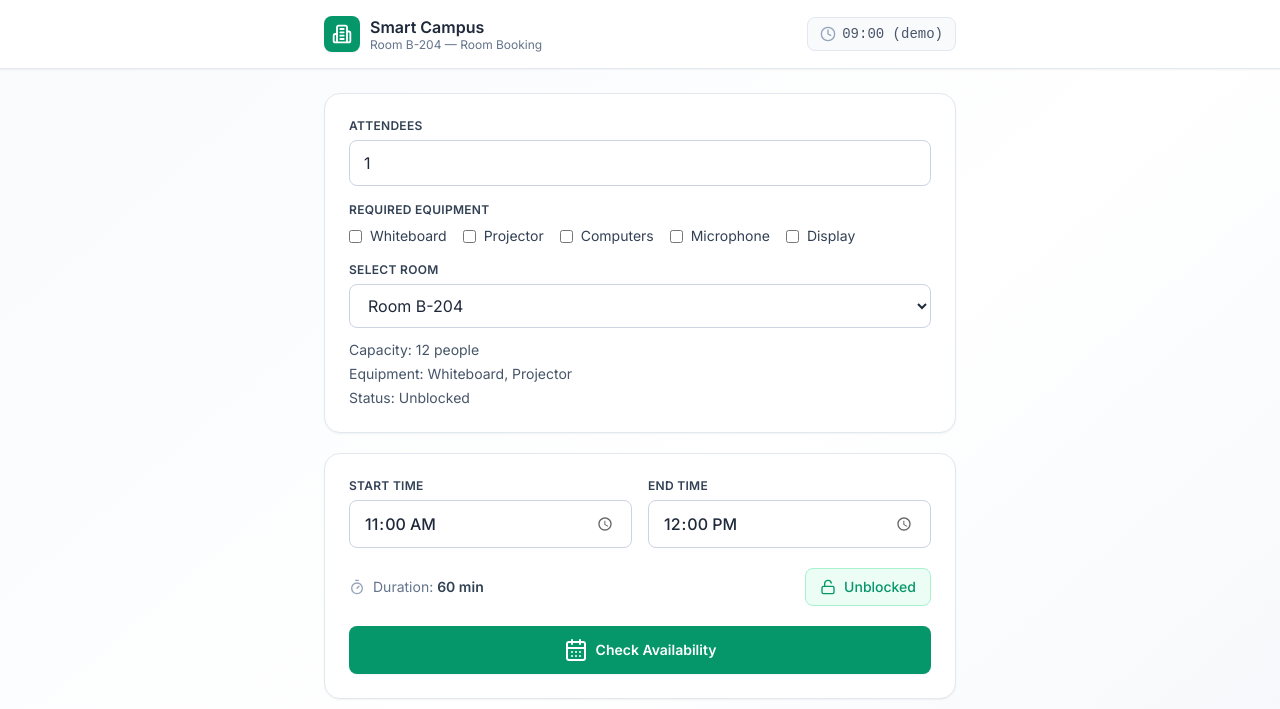
Test case: Filter and room-switching behavior › clears selection when equipment excludes the room and recovers from the empty state
Later steps or results of the test are not shown.
Click the button "Check Availability". click: (640, 650)
box: [349,626,931,674]
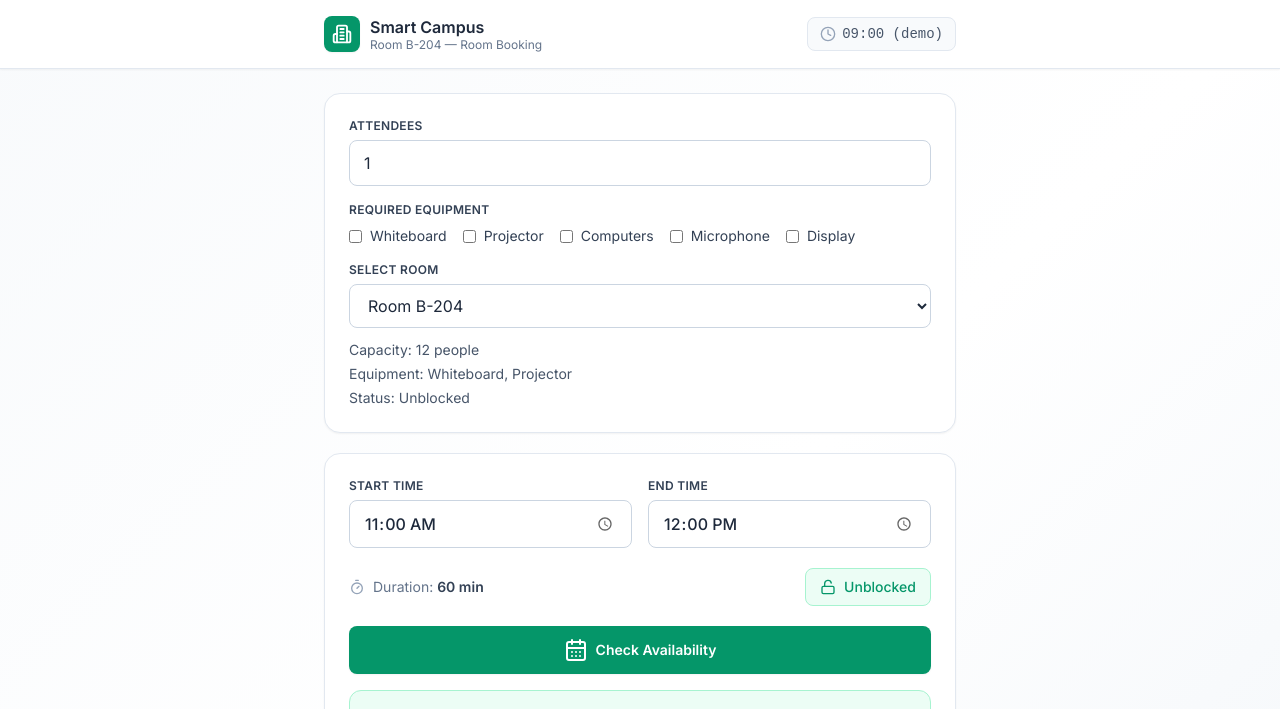
Click the checkbox labelled "Computers". click: (566, 236)
box: [560,230,573,242]
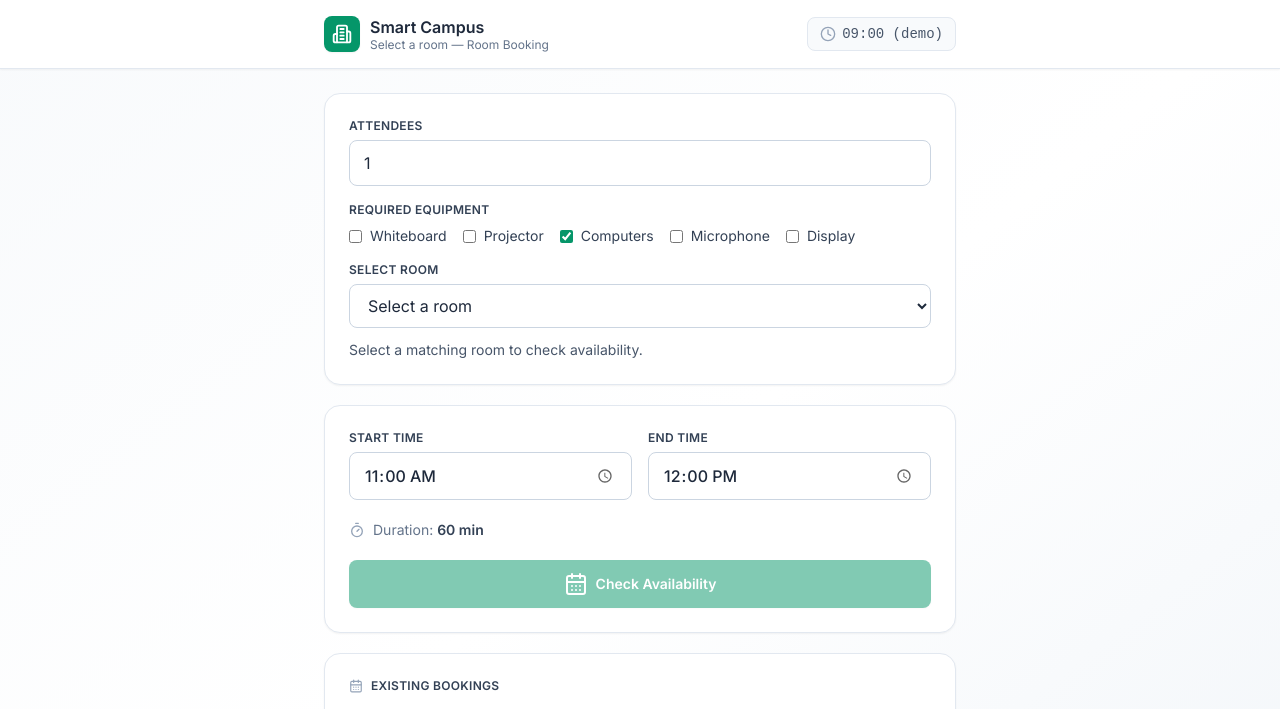
Expected: the dropdown with id "room-select" shows "Select a room", [349,284,931,328]
Click the checkbox labelled "Display". click: (792, 236)
box: [786,230,799,242]
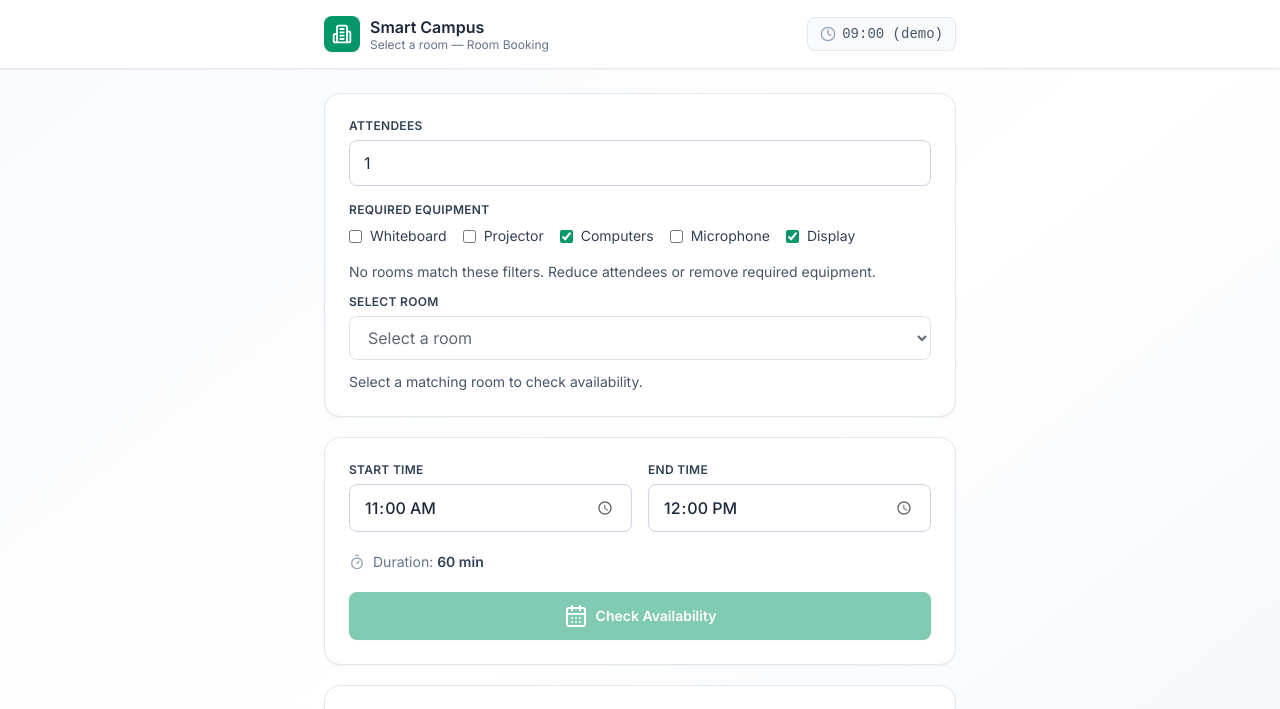
Expected: the message "No rooms match these filters. Reduce attendees or remove required equipment." is shown, [349,262,931,282]
Expected: the dropdown with id "room-select" is disabled, [349,316,931,360]
